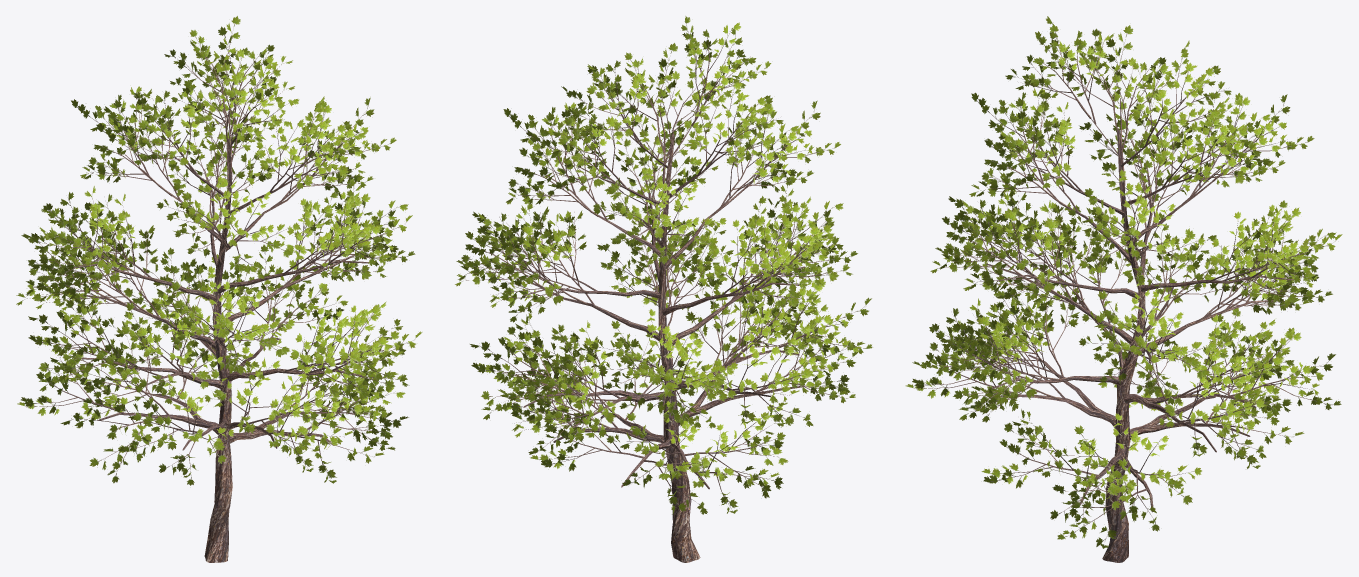
3 views of the same model, side by side, from view 1: azimuth 30°, elevation 25°; view 2: azimuth 150°, elevation 25°; view 3: azimuth 270°, elevation 25° (orthographic). The views are drawn at different scales.
Visible parts, largest first — view 1: Tree_1, Tree_0; view 2: Tree_1, Tree_0; view 3: Tree_1, Tree_0.
Part boxes in pixels (x1=…): Tree_1: x1=16, y1=16, x2=422, y2=485; Tree_0: x1=26, y1=33, x2=407, y2=562; Tree_1: x1=455, y1=16, x2=872, y2=514; Tree_0: x1=466, y1=31, x2=862, y2=562; Tree_1: x1=905, y1=16, x2=1342, y2=548; Tree_0: x1=916, y1=35, x2=1327, y2=562.
Size of the model in its own units: 7.9 by 10.47 by 7.86.
Materials: 2 (2 with a texture image).
